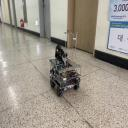cart: (48, 58, 81, 97)
